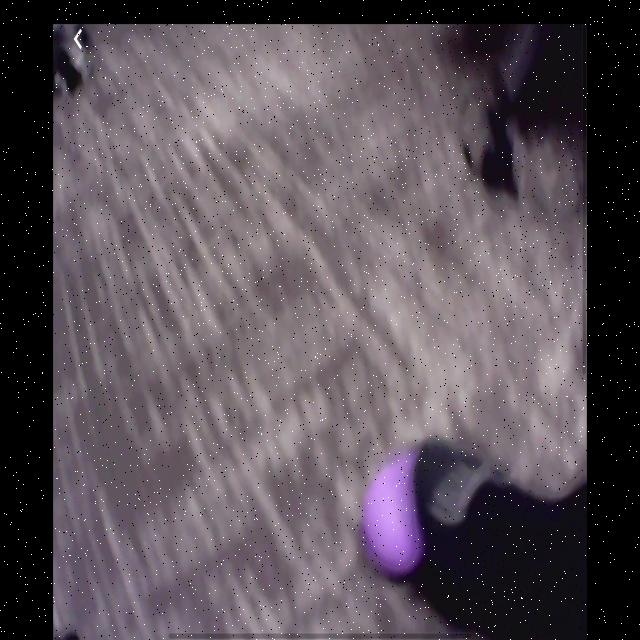ball: (361, 450, 427, 581)
